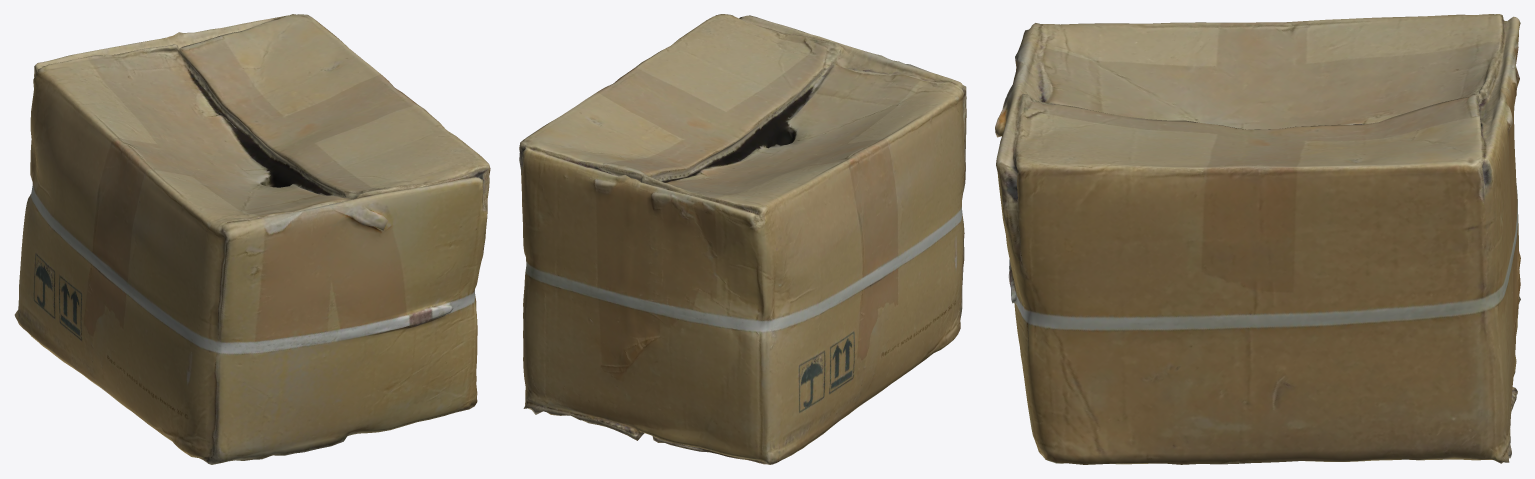
3 renders of one model, left to right at view 1: azimuth 30°, elevation 25°; view 2: azimuth 150°, elevation 25°; view 3: azimuth 270°, elevation 25°, orthographic. The views are drawn at different scales.
Parts seen in each view (by area): view 1: cardboard_box_01; view 2: cardboard_box_01; view 3: cardboard_box_01.
Part boxes in pixels (bbox=[...]): cardboard_box_01: bbox=[14, 14, 490, 464]; cardboard_box_01: bbox=[519, 14, 966, 464]; cardboard_box_01: bbox=[995, 14, 1520, 464].
Bounding box in the file's own units: 0.387 × 0.3418 × 0.5159.
Materials: 1 (1 with a texture image).
